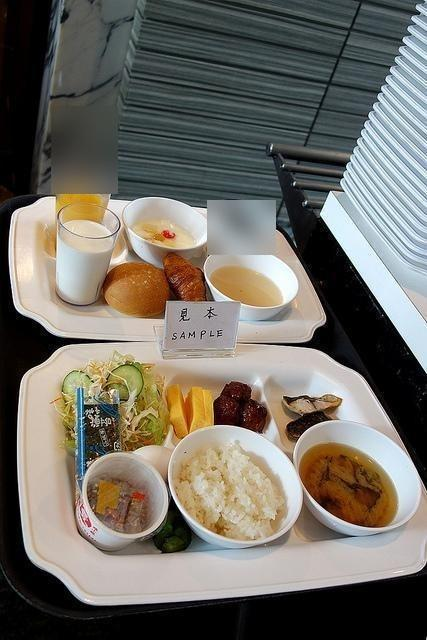cup-disposable: (75, 452, 168, 551)
glass-normal: (56, 201, 121, 306)
